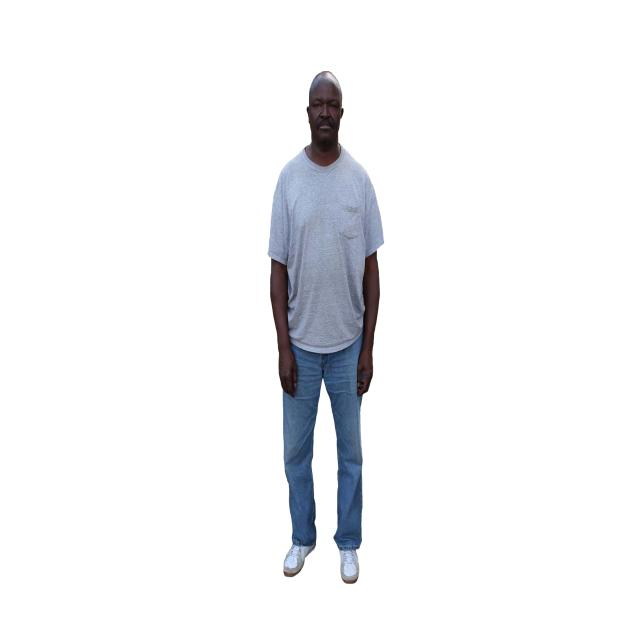jovem: (265, 67, 398, 595)
